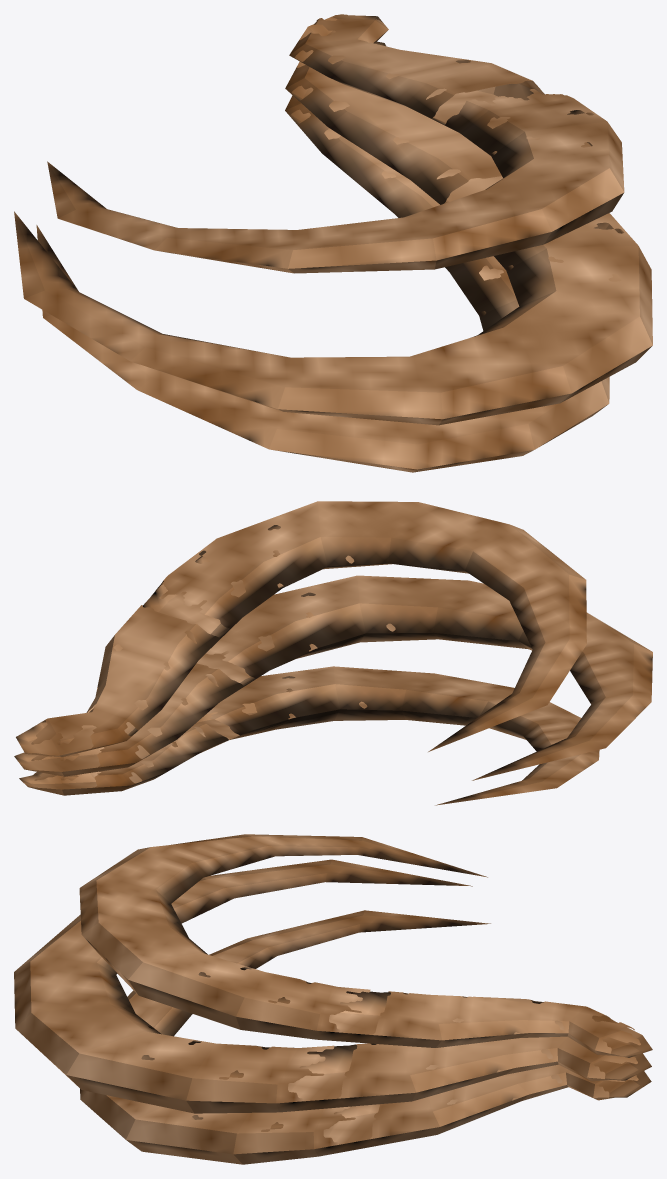
File: reaperclaw.obj
3 renders of one model, top to bottom at view 1: azimuth 30°, elevation 25°; view 2: azimuth 150°, elevation 25°; view 3: azimuth 270°, elevation 25°, orthographic. The views are drawn at different scales.
Visible parts, largest first — view 1: base; view 2: base; view 3: base.
Boxes of the visible parts, x1,y1,x2,y2 form: base: [14, 14, 652, 472]; base: [14, 501, 652, 805]; base: [14, 834, 652, 1164].
Size of the model in its own units: 0.6354 by 0.2689 by 0.7851.
